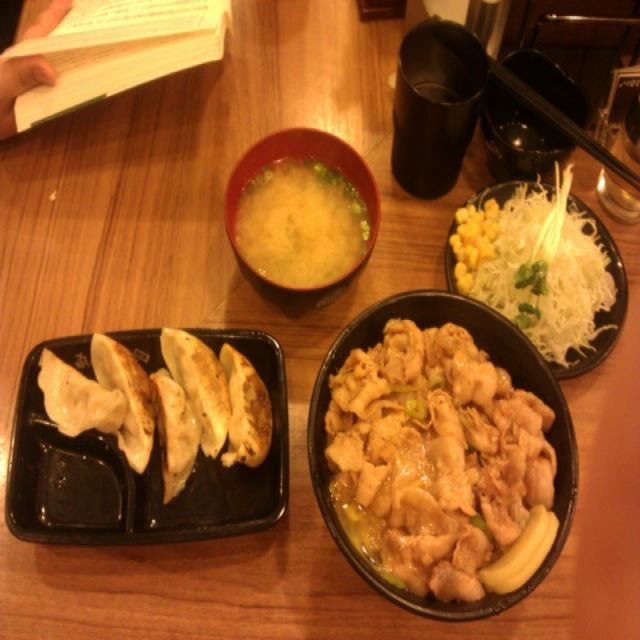Green Salad: (465, 182, 598, 354)
